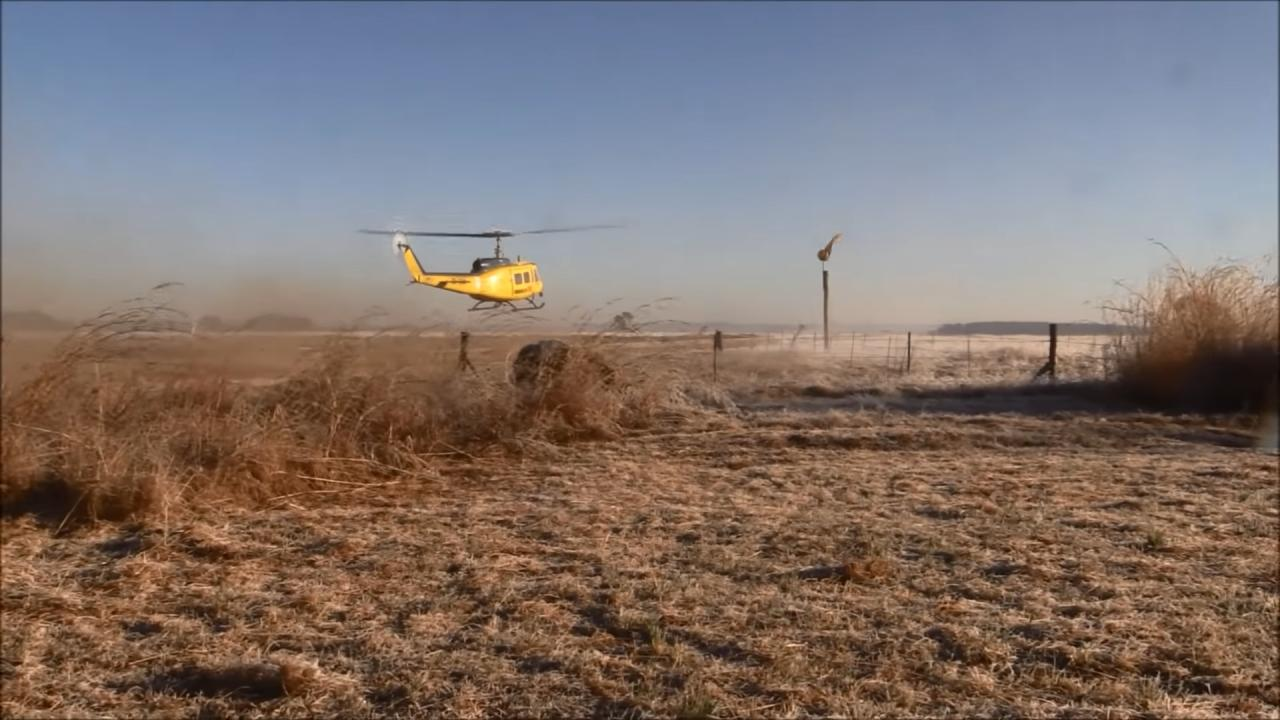Helicopter: (348, 212, 661, 320)
